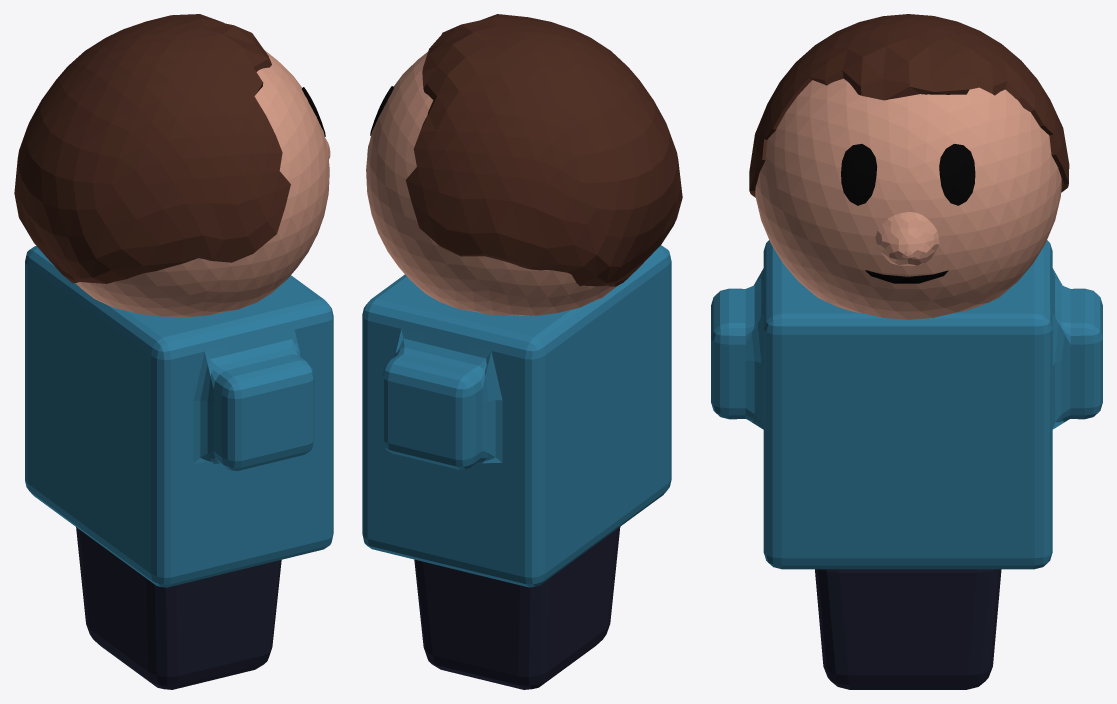
File: Human2.fbx
3 renders of one model, left to right at view 1: azimuth 30°, elevation 25°; view 2: azimuth 150°, elevation 25°; view 3: azimuth 270°, elevation 25°, orthographic. The views are drawn at different scales.
Visible parts, largest first — view 1: Куб, Икосфера.004, Куб.001, Икосфера; view 2: Куб, Икосфера.004, Куб.001, Икосфера; view 3: Куб, Икосфера, Куб.001, Икосфера.004, Икосфера.002, Икосфера.001.
Boxes of the visible parts, bbox=[...] form: Куб: bbox=[25, 246, 333, 587]; Икосфера.004: bbox=[14, 14, 290, 283]; Куб.001: bbox=[76, 527, 281, 689]; Икосфера: bbox=[75, 50, 329, 316]; Куб: bbox=[362, 245, 671, 587]; Икосфера.004: bbox=[405, 14, 682, 286]; Куб.001: bbox=[414, 527, 620, 689]; Икосфера: bbox=[366, 52, 616, 315]; Куб: bbox=[711, 240, 1102, 569]; Икосфера: bbox=[755, 78, 1061, 319]; Куб.001: bbox=[815, 569, 1001, 689]; Икосфера.004: bbox=[749, 14, 1069, 197]; Икосфера.002: bbox=[841, 144, 975, 205]; Икосфера.001: bbox=[875, 212, 939, 266].
Size of the model in its own units: 221 by 457 by 253.
